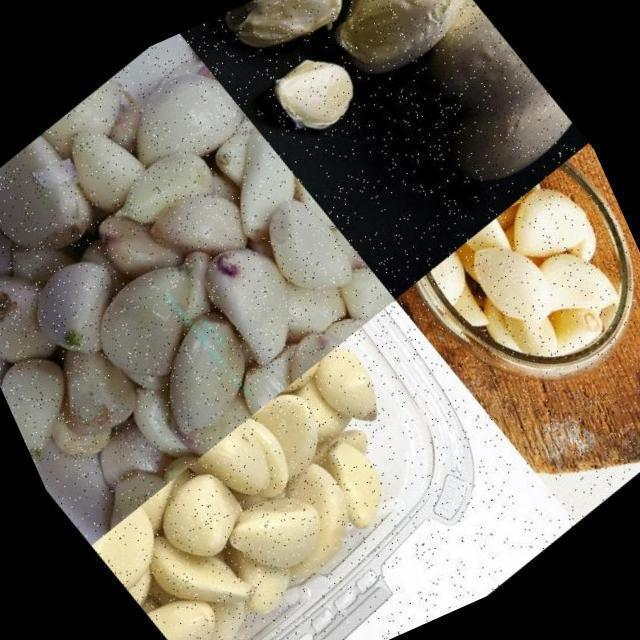garlic: (0, 0, 435, 552), (58, 323, 483, 640), (404, 152, 640, 422), (342, 0, 592, 230), (306, 0, 492, 99), (252, 31, 380, 156), (212, 0, 380, 92)
